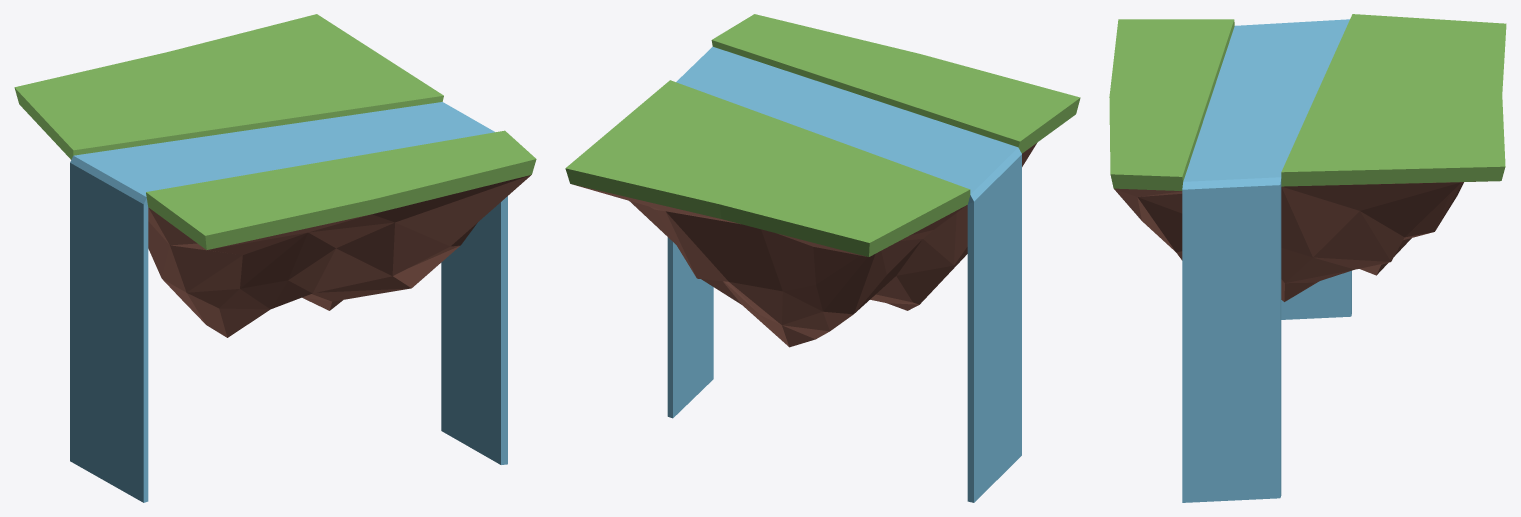
Rendered from Island17.fbx.
3 views of the same model, side by side, from view 1: azimuth 30°, elevation 25°; view 2: azimuth 150°, elevation 25°; view 3: azimuth 270°, elevation 25° (orthographic). The views are drawn at different scales.
Visible parts, largest first — view 1: Island17; view 2: Island17; view 3: Island17.
Part boxes in pixels (left/top/right/bottom): Island17: left=14, top=14, right=536, bottom=502; Island17: left=565, top=14, right=1080, bottom=502; Island17: left=1109, top=14, right=1506, bottom=502.
Bounding box in the file's own units: 4.02 × 3.67 × 4.06.
